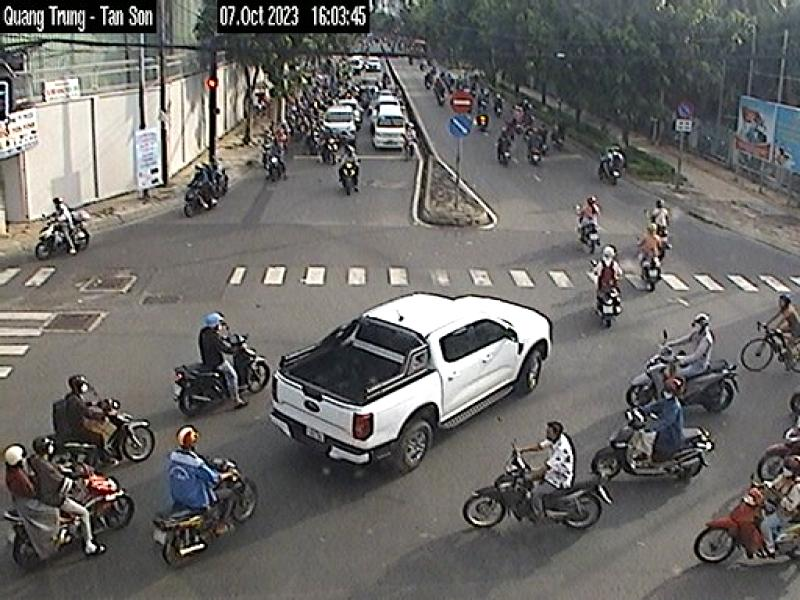car: (272, 296, 552, 474)
motorcycle: (7, 461, 137, 571), (459, 454, 614, 532), (164, 453, 262, 570), (693, 490, 800, 568), (173, 334, 271, 417), (624, 348, 742, 412), (588, 419, 710, 479), (102, 396, 156, 462)
